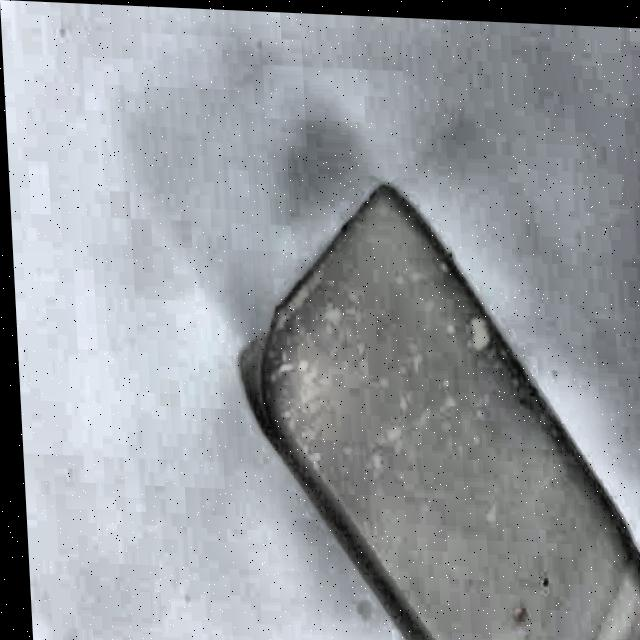plastic: (227, 175, 640, 640)
